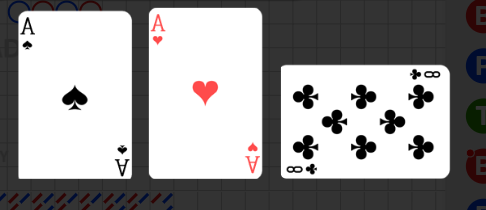8C: (407, 68, 442, 82)
AH: (243, 140, 260, 175)
AS: (20, 16, 37, 54)
